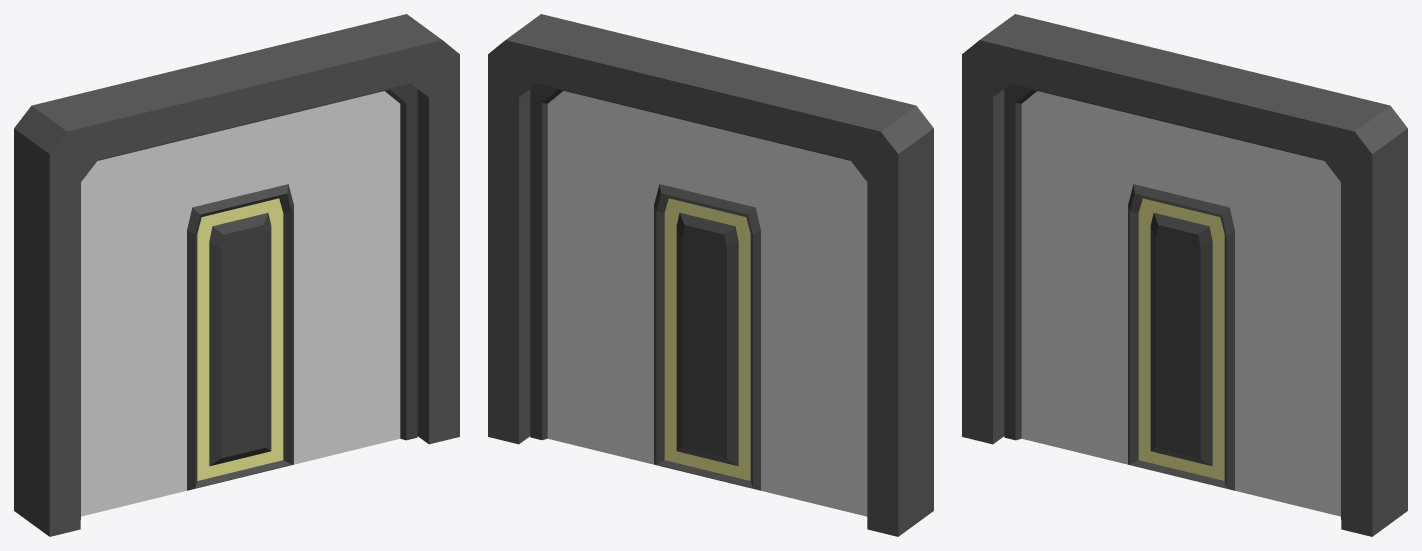
The model's file is MiscRoom_01_Door.fbx.
3 views of the same model, side by side, from view 1: azimuth 30°, elevation 25°; view 2: azimuth 150°, elevation 25°; view 3: azimuth 330°, elevation 25° (orthographic).
Parts seen in each view (by area): view 1: Hall_Door, Hall_Door_Frame; view 2: Hall_Door, Hall_Door_Frame; view 3: Hall_Door, Hall_Door_Frame.
Part boxes in pixels (x1,y1,x2,y2): Hall_Door: [80, 83, 417, 519]; Hall_Door_Frame: [14, 14, 459, 536]; Hall_Door: [530, 83, 867, 516]; Hall_Door_Frame: [488, 14, 933, 536]; Hall_Door: [1004, 83, 1341, 519]; Hall_Door_Frame: [962, 14, 1407, 536].
Size of the model in its own units: 931 by 873 by 140.
